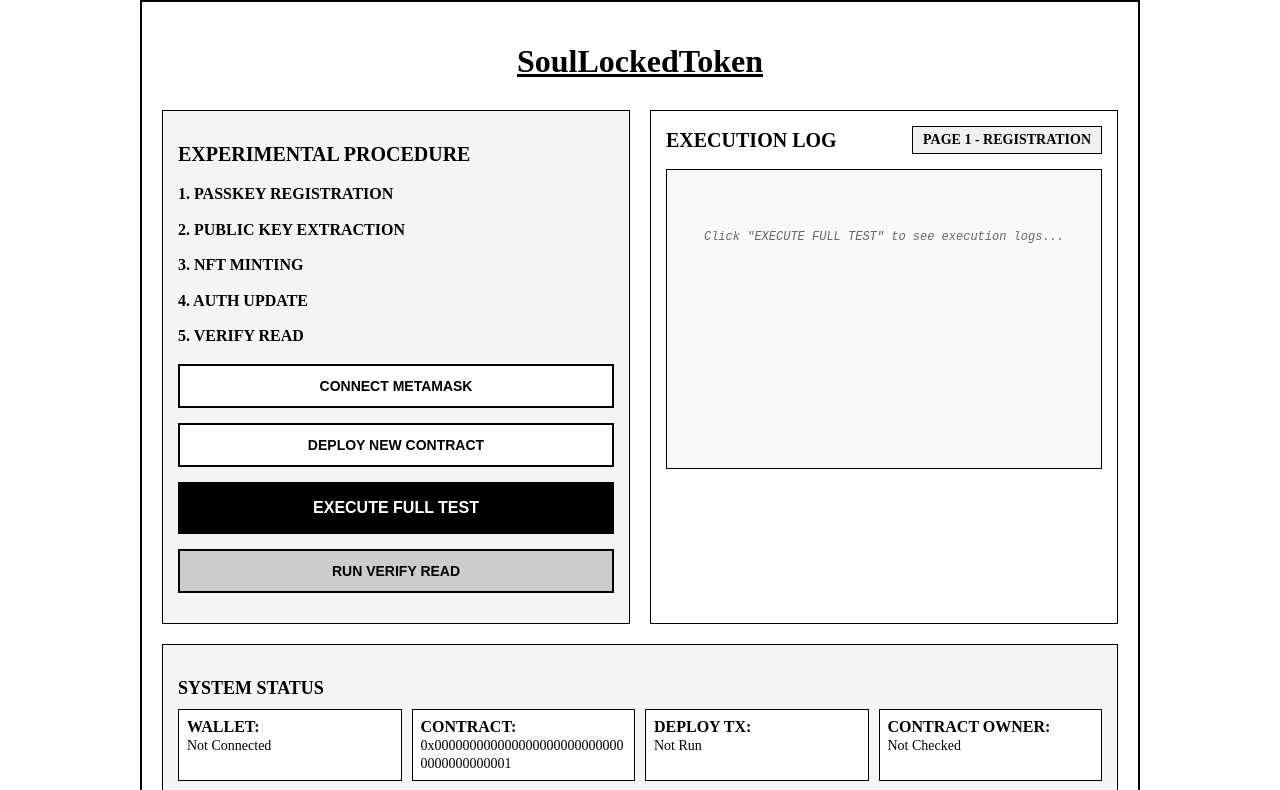
Test case: PasskeyFullTest › deploys a Base Sepolia contract from MetaMask with the RIP-7212 verifier patched into bytecode
Click the button "DEPLOY NEW CONTRACT".
click(396, 445)  # box [178,423,614,467]
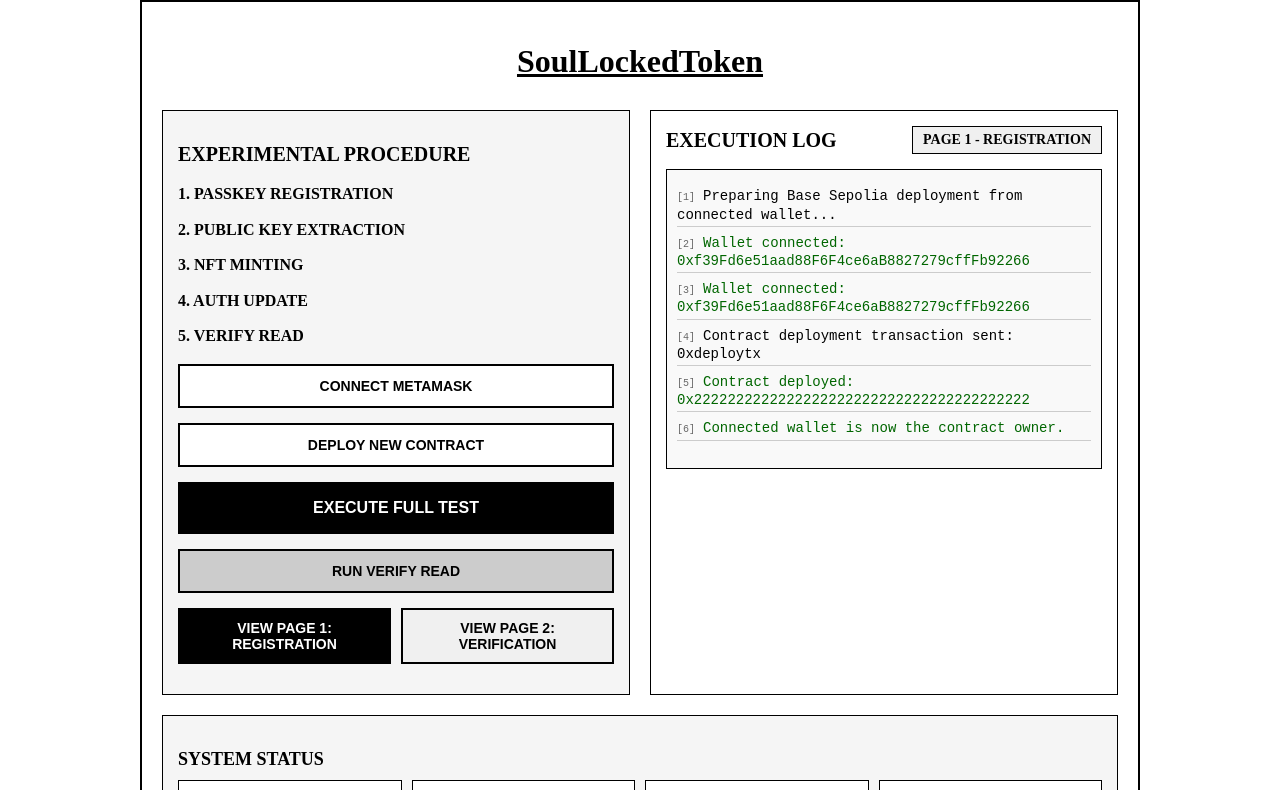
Result: the text "Contract deployed: 0x2222222222222222222222222222222222222222" is shown at [677,374,1030,408]
